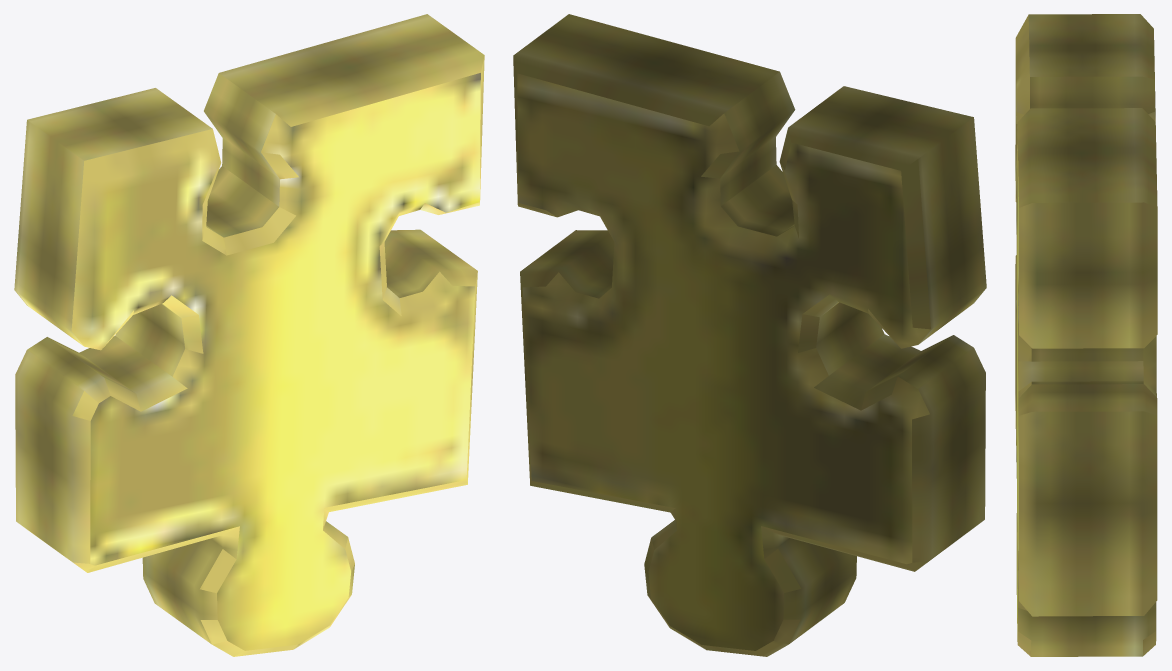
The model's file is icon.ico.obj.
The picture shows the model from 3 angles, left to right: view 1: azimuth 30°, elevation 25°; view 2: azimuth 150°, elevation 25°; view 3: azimuth 270°, elevation 25°; orthographic projection.
Size of the model in its own units: 3.98 by 5 by 1.19.
Materials: 1 (1 with a texture image).
